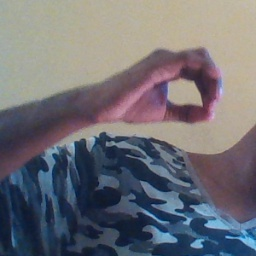O: (101, 38, 228, 134)
